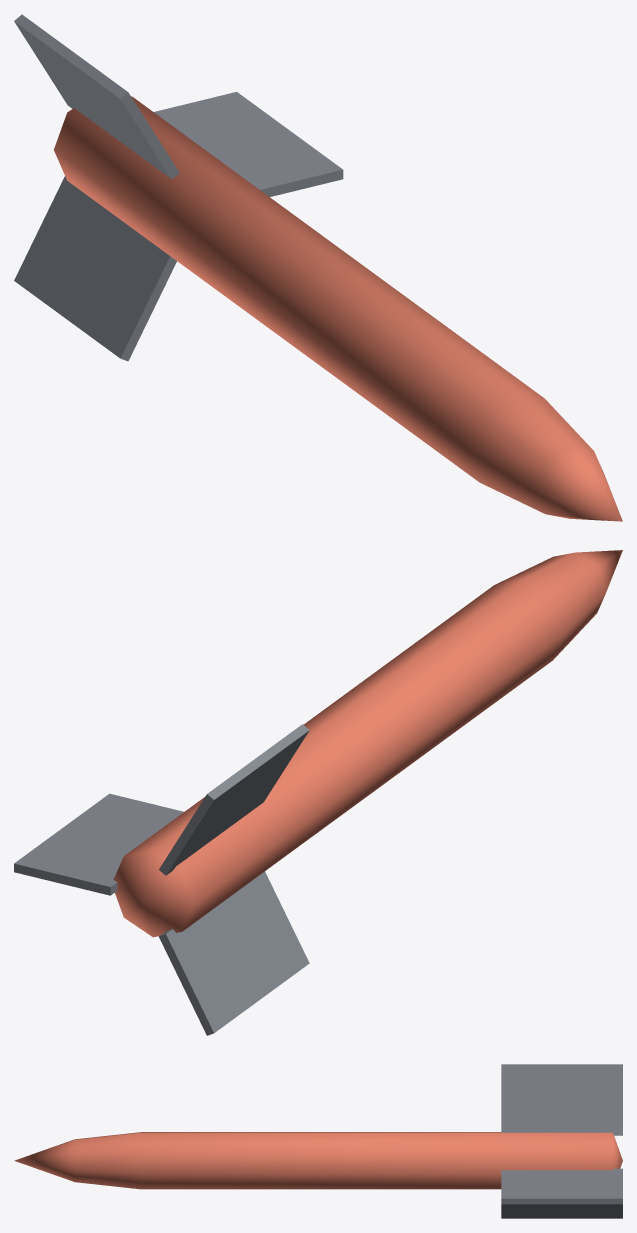
File: rocket.glb
3 views of the same model, one above another, from view 1: azimuth 30°, elevation 25°; view 2: azimuth 150°, elevation 25°; view 3: azimuth 270°, elevation 25° (orthographic). The views are drawn at different scales.
Parts seen in each view (by area): view 1: rocket; view 2: rocket; view 3: rocket.
Boxes of the visible parts, x1,y1,x2,y2 form: rocket: [14, 14, 622, 521]; rocket: [14, 550, 622, 1035]; rocket: [14, 1064, 622, 1218].
Size of the model in its own units: 0.2902 by 0.3351 by 1.2.
